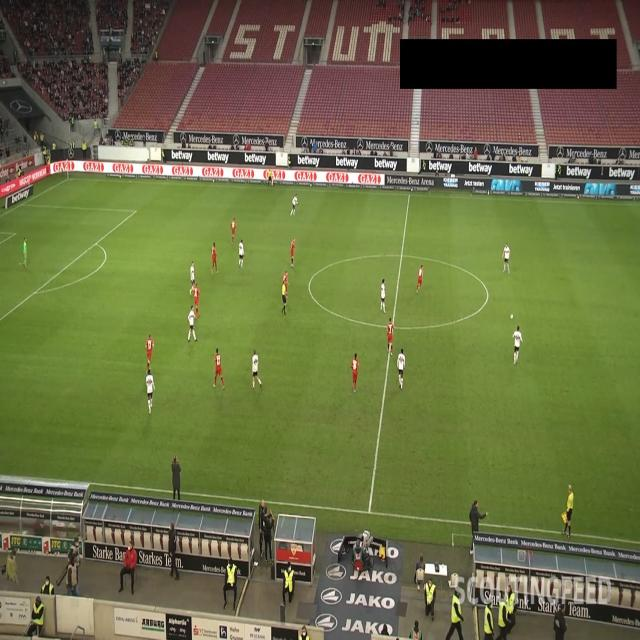ball: (510, 312, 514, 320)
